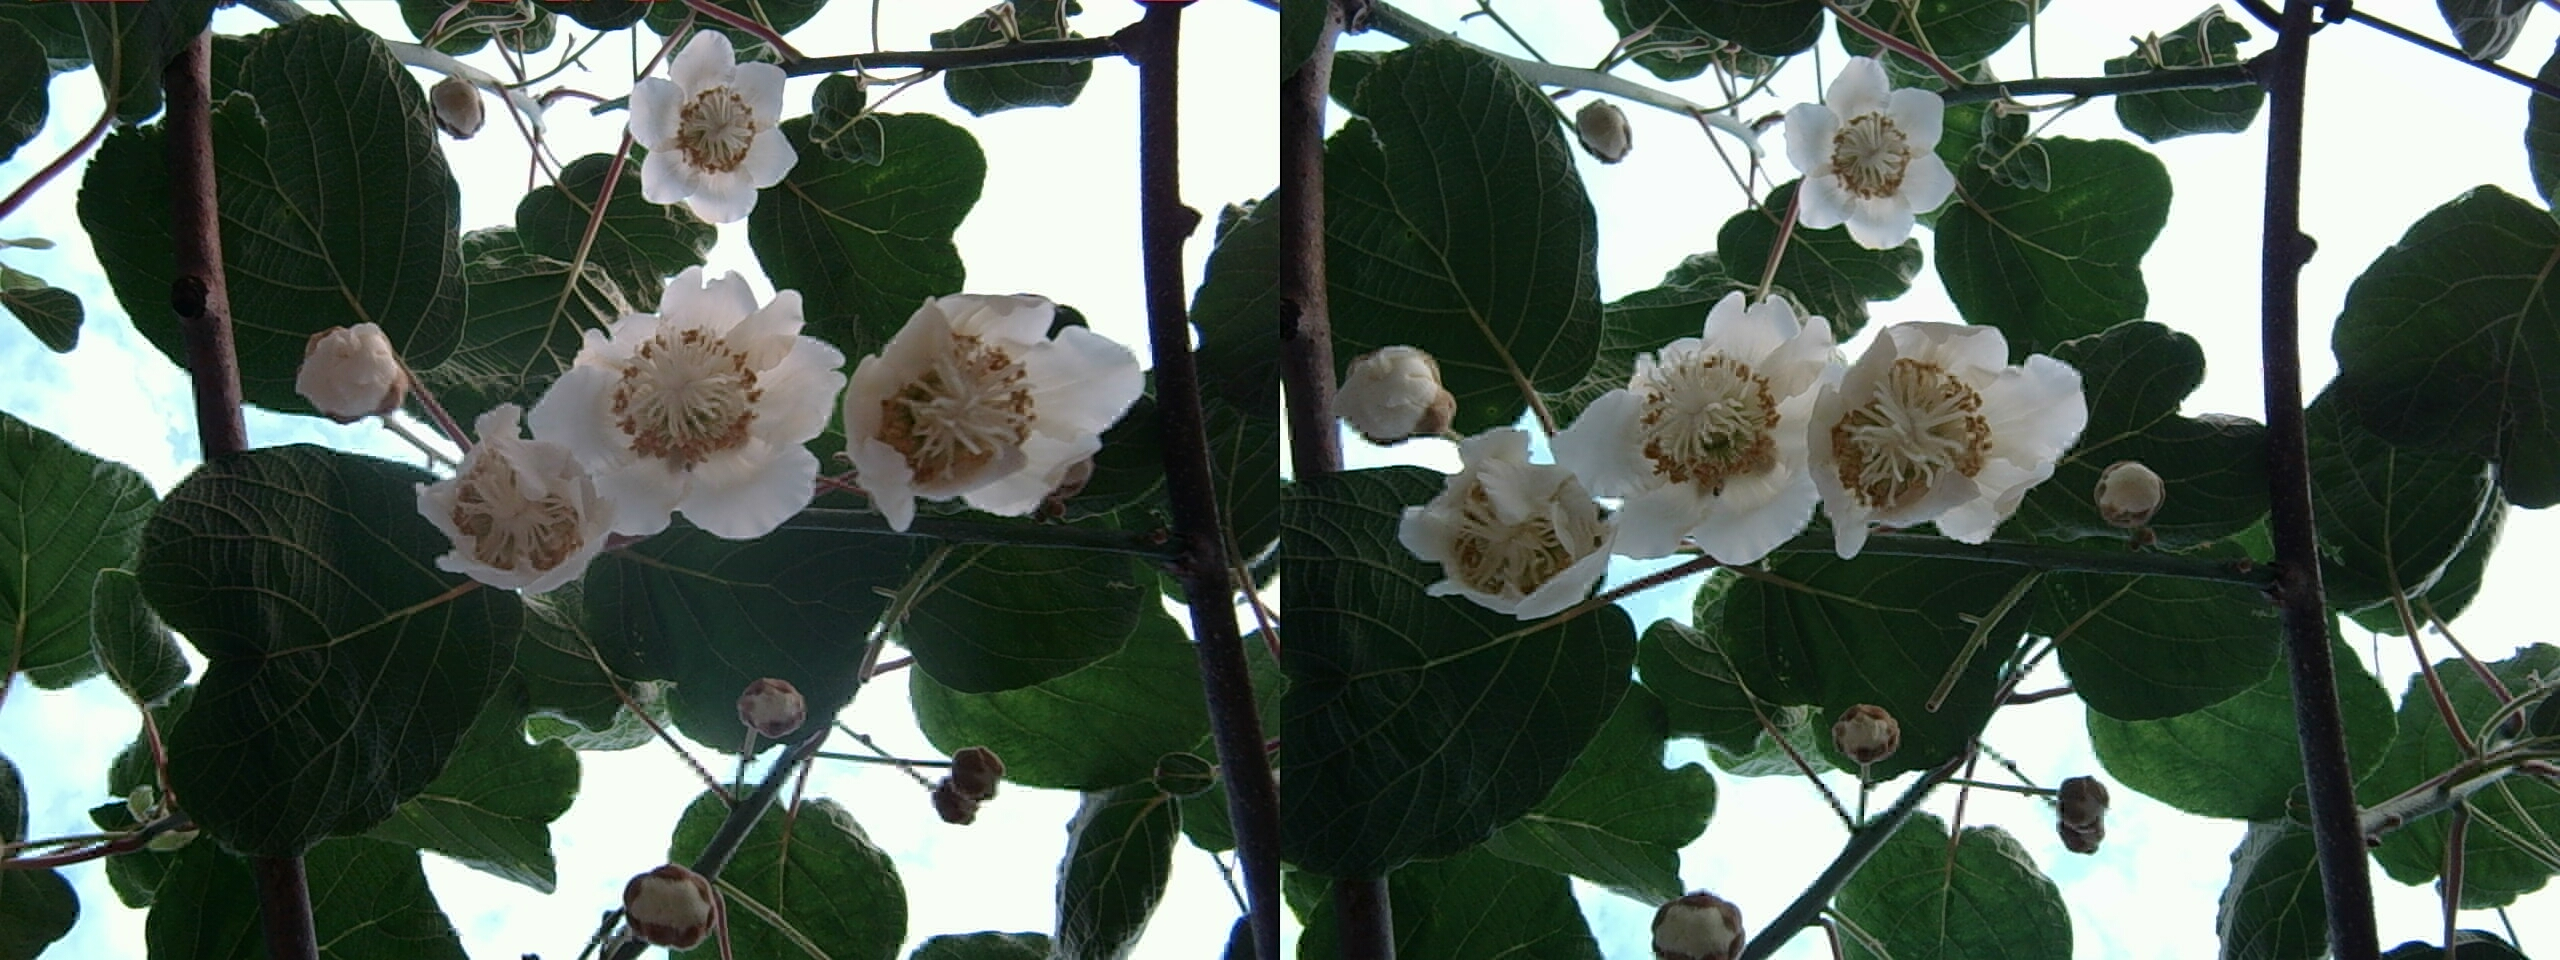flower: (534, 261, 838, 527), (834, 284, 1123, 522), (1572, 287, 1832, 550), (1796, 310, 2070, 549), (410, 413, 633, 588), (1394, 434, 1613, 612), (1768, 52, 1956, 247), (616, 29, 798, 229), (1327, 343, 1456, 446)
